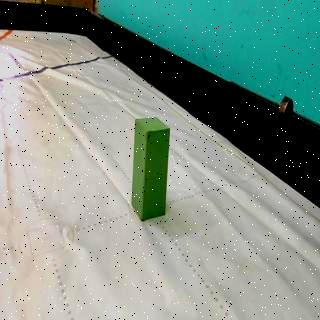greenbox: (132, 115, 172, 222)
